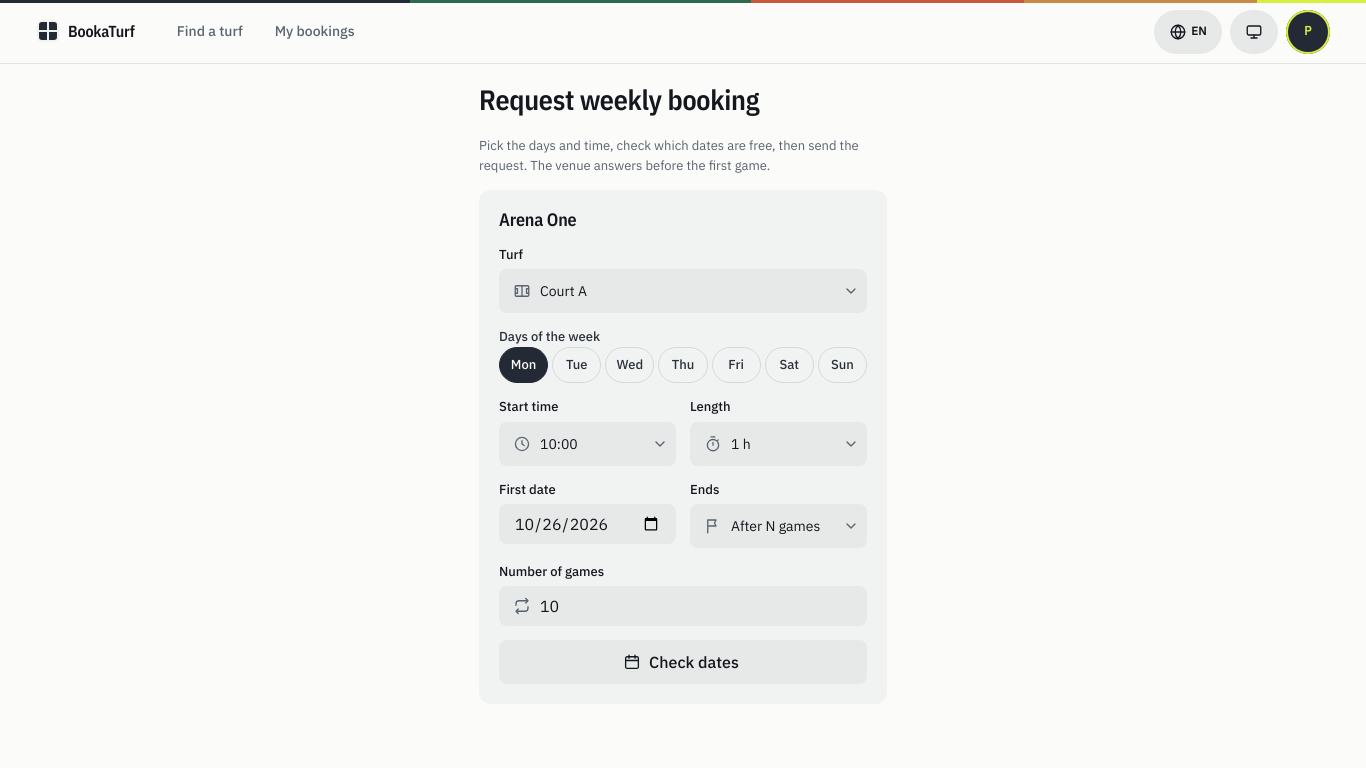
request weekly booking › the preview shows the platform fee only when the player pays it (player)
expect the dropdown labelled "Start time" shows "10:00": met, box [499,422,676,466]
What coordinates should you click on to do the following:
click the button "Check dates"
I would click on:
 (683, 662)
Its box is [499,640,867,684].
(page scrolled)
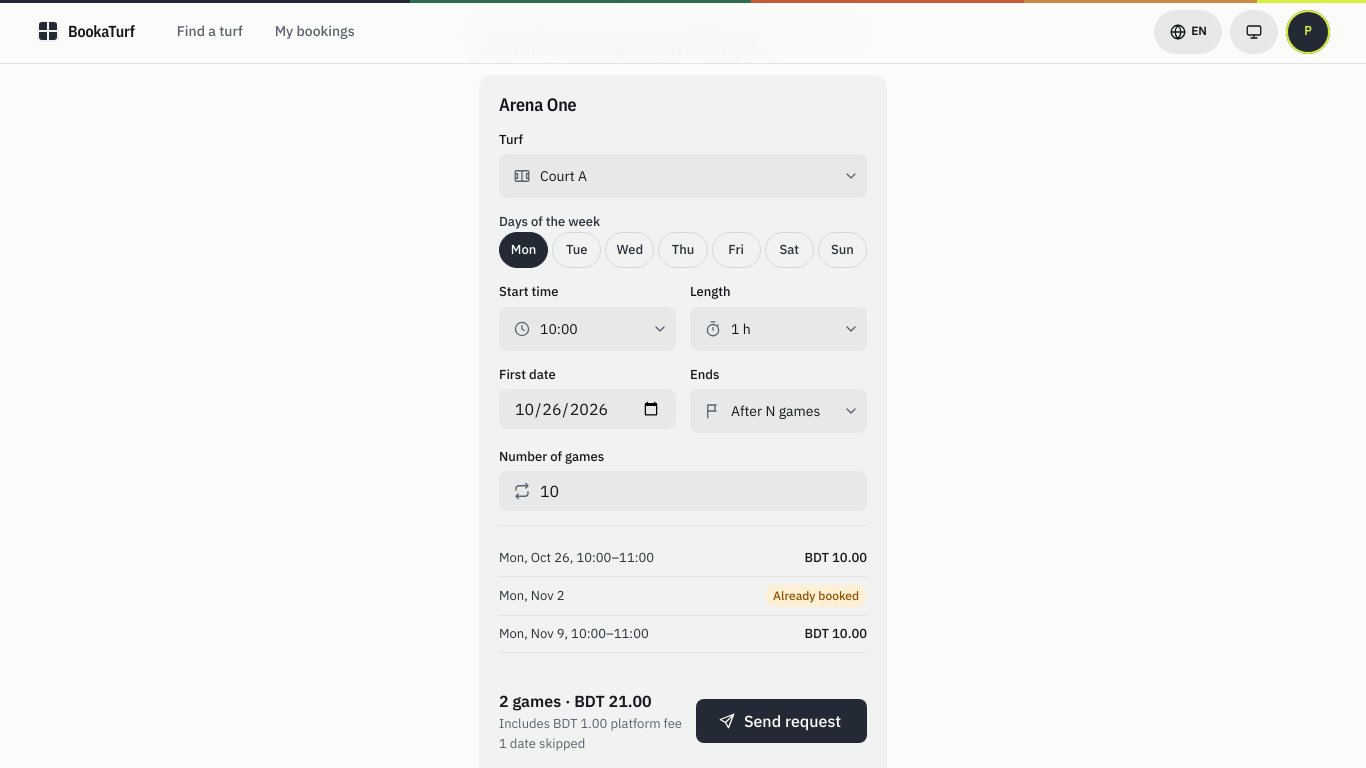
expect the list named "Dates in this series" is shown: met, box [499,540,867,653]
expect the text "Includes BDT 1.00 platform fee" is shown: met, box [499,714,682,734]
expect the text "2 games · BDT 21.00" is shown: met, box [499,691,652,711]
